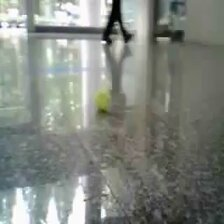tennis: (95, 90, 111, 110)
